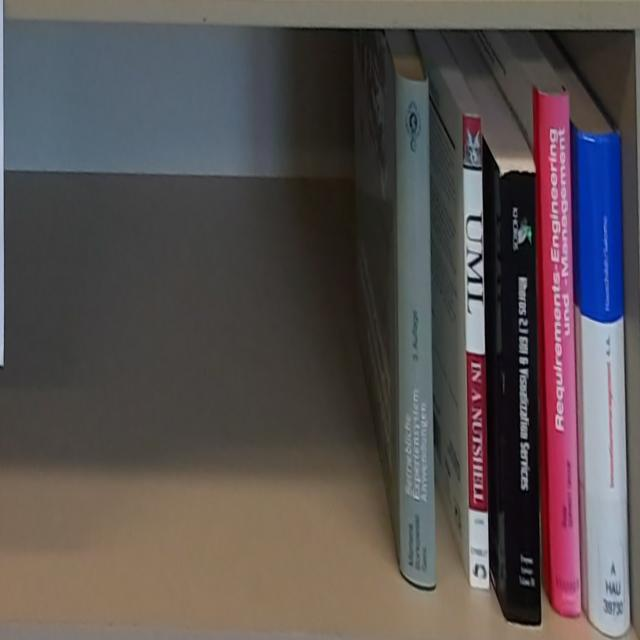Book Spine: (577, 130, 631, 640), (538, 90, 583, 622), (395, 65, 435, 595), (501, 172, 542, 627), (463, 115, 489, 596)
